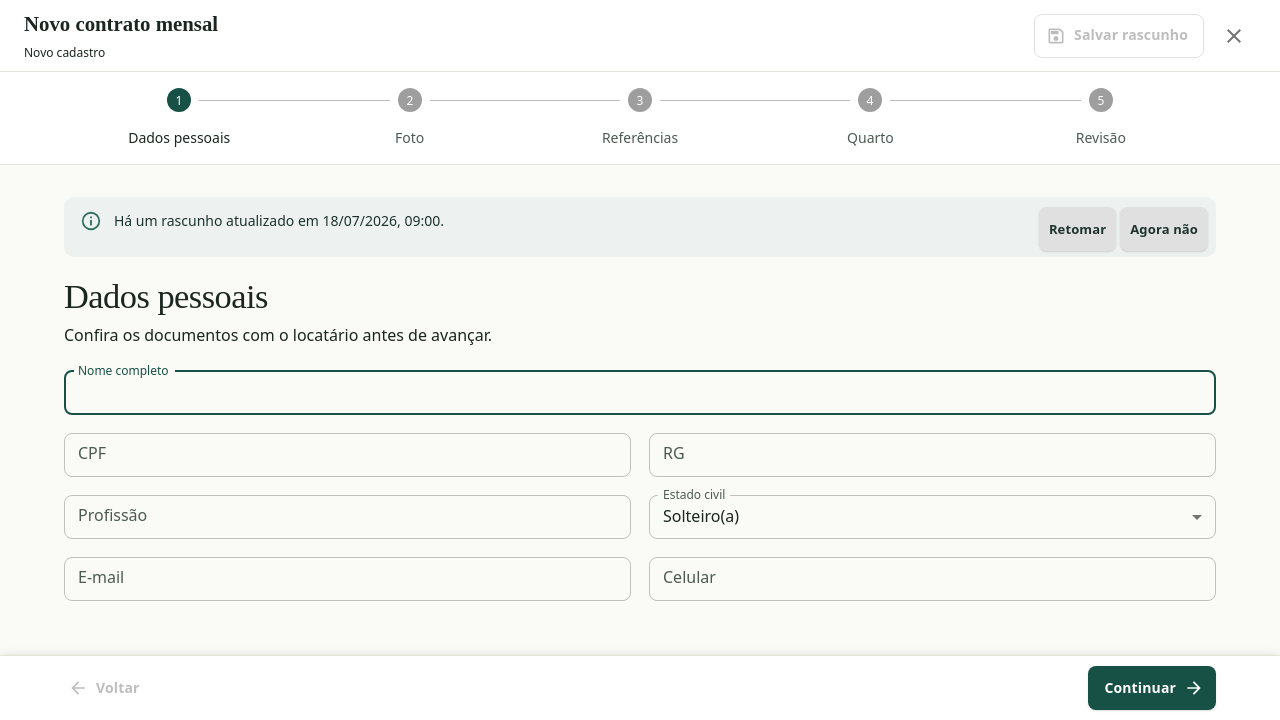
Test: OnboardingWizard › retoma o rascunho mais recente sem usar armazenamento local
The image size is (1280, 720).
Click the button "Retomar" at (1078, 229), box [1039, 207, 1116, 251]
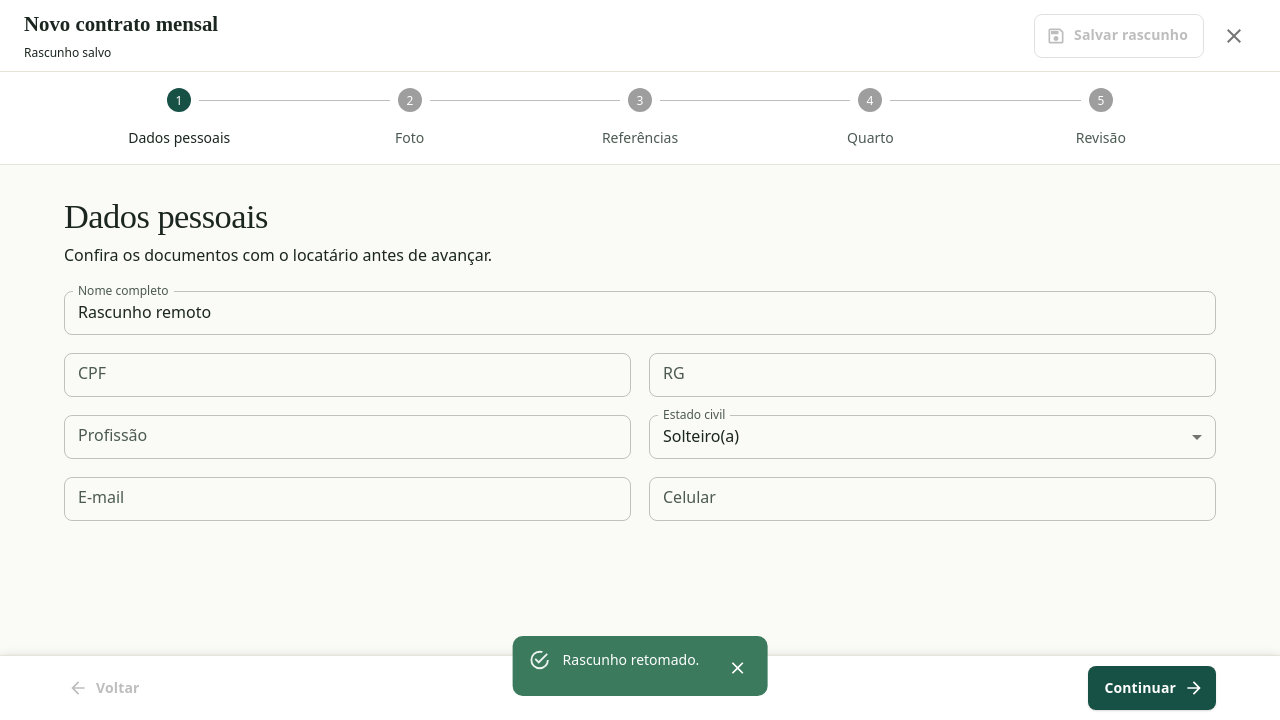
Expected: the field labelled "Nome completo" holds "Rascunho remoto", [64, 293, 1216, 333]
Expected: the text "Rascunho retomado." is shown, [563, 650, 699, 669]
